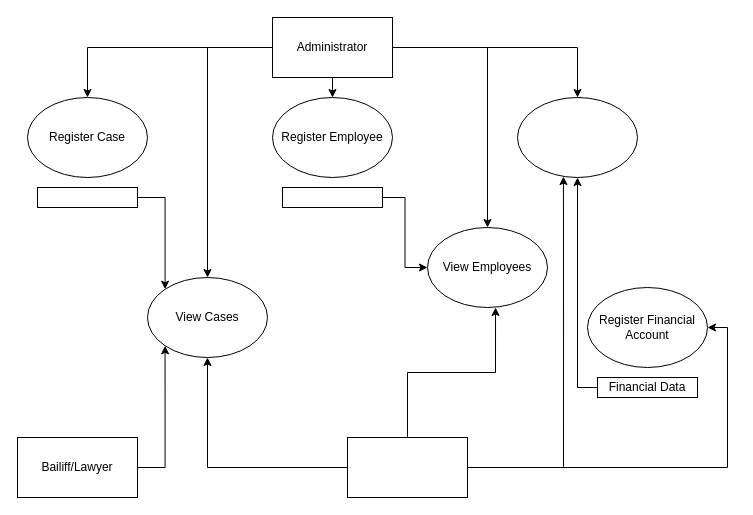
The diagram is 753 pixels wide and 515 high, and some of its shapes have lost their labels. Each missing label, with the box of its shape:
Accountant: (346, 436, 468, 498)
Case Data: (36, 186, 138, 208)
Employee Data: (282, 186, 382, 208)
View Financial Data: (516, 96, 638, 178)
